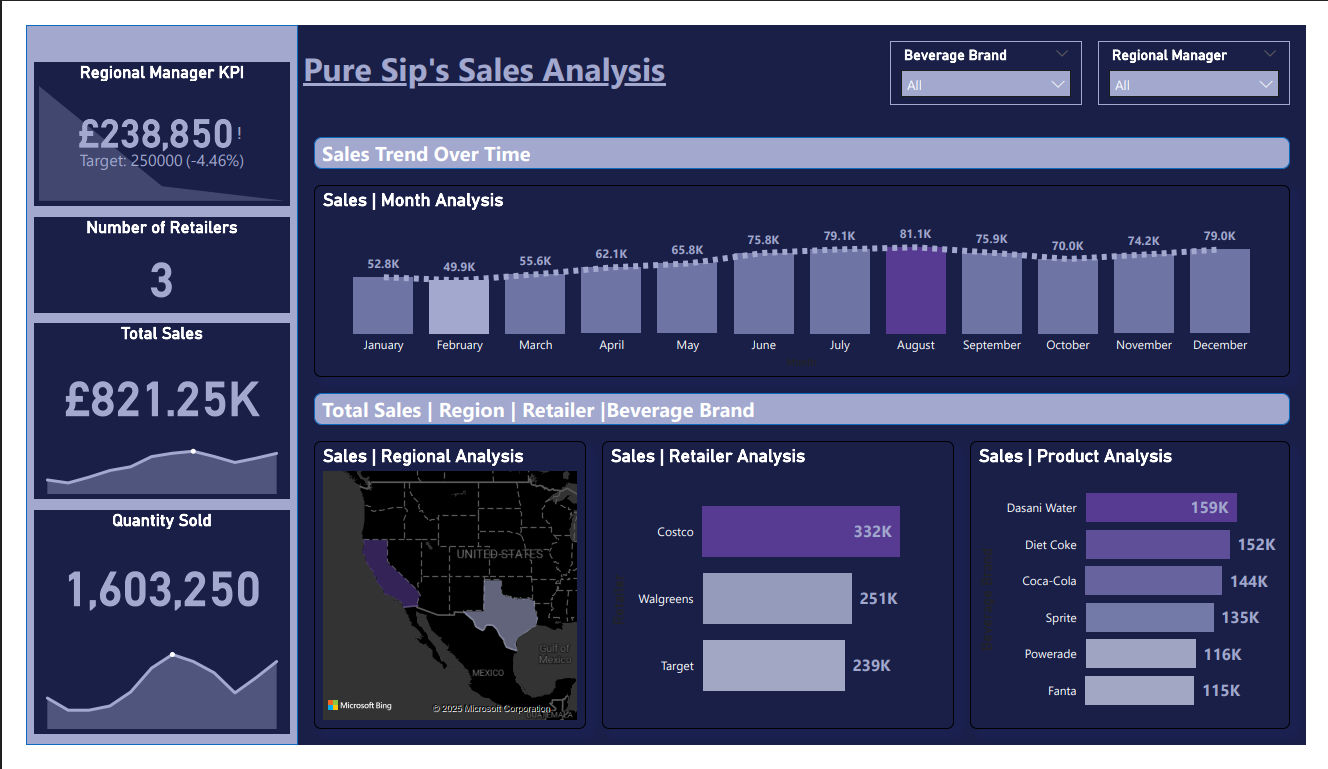

The dashboard page shown, as its layout file describes it:
{"tool":"powerbi","page":{"name":"Pure Sip Dashboard","canvas":[1280,720],"ordinal":0},"visuals":[{"type":"shape","box":[0,0,272,720],"z":0},{"type":"lineClusteredColumnComboChart","title":"Sales | Month Analysis","fields":{"Y":["Sum(data.Sales)"],"Category":["data.Order Date.Variation.Date Hierarchy.Month"],"Y2":["Sum(data.Sales)"]},"box":[288,160,976,192],"z":1000},{"type":"filledMap","title":"Sales | Regional Analysis","fields":{"Category":["data.State"]},"box":[288,416,272,288],"z":2000},{"type":"clusteredBarChart","title":"Sales | Retailer  Analysis","fields":{"Y":["Sum(data.Sales)"],"Category":["data.Retailer"]},"box":[576,416,352,288],"z":3000},{"type":"clusteredBarChart","title":"Sales | Product Analysis","fields":{"Y":["Sum(data.Sales)"],"Category":["data.Beverage Brand"]},"box":[944,416,320,288],"z":4000},{"type":"card","title":"Number of Retailers","fields":{"Values":["Calculated measures.Number of Retailers"]},"box":[8,191.7,256,96],"z":5000},{"type":"kpi","title":"Regional Manager KPI","fields":{"Indicator":["Calculated measures.Total Sales"],"Goal":["Calculated measures.Target"],"TrendLine":["data.Regional Manager"]},"box":[8,37,256,144],"z":6000},{"type":"card","title":"Quantity Sold","fields":{"Values":["Calculated measures.Total Quantity Sold"]},"box":[8,485,256,128],"z":6000,"group":"g2"},{"type":"slicer","fields":{"Values":["data.Regional Manager"]},"box":[1072,16,192,64],"z":7000},{"type":"card","title":"Total Sales","fields":{"Values":["Calculated measures.Total Sales"]},"box":[8,298.3,256,121.8],"z":7000,"group":"g4"},{"type":"shape","box":[288,368,976,32],"z":8000},{"type":"group","id":"g1","title":"Group 1","box":[8,298.3,256,176],"z":9000},{"type":"group","id":"g2","title":"Group 4","box":[8,485,256,224],"z":10000},{"type":"areaChart","title":"Total Sales","fields":{"Y":["Calculated measures.Total Quantity Sold"],"Category":["data.Order Date.Variation.Date Hierarchy.Month"]},"box":[8,613,256,96],"z":10000,"group":"g2"},{"type":"slicer","fields":{"Values":["data.Beverage Brand"]},"box":[864,16,192,64],"z":11000},{"type":"areaChart","title":"Total Sales","fields":{"Y":["Calculated measures.Total Sales"],"Category":["data.Order Date.Variation.Date Hierarchy.Month"]},"box":[8,393.1,256,81.2],"z":11000,"group":"g4"},{"type":"group","id":"g3","title":"Group 2","box":[8,298.3,256,176],"z":11001,"group":"g1"},{"type":"group","id":"g4","title":"Group 3","box":[8,298.3,256,176],"z":11001,"group":"g3"},{"type":"shape","box":[288,112,976,32],"z":12000},{"type":"textbox","box":[272,16,576,64],"z":13000}]}

Visuals, with their boxes in screenshot pixels (x1, y1, x2, y2), scaled from the page's 1280x720 canvas onto the 1328x769 screenshot:
shape: (x1=0, y1=0, x2=282, y2=768)
"Sales | Month Analysis" lineClusteredColumnComboChart: (x1=299, y1=171, x2=1311, y2=376)
"Sales | Regional Analysis" filledMap: (x1=299, y1=444, x2=581, y2=752)
"Sales | Retailer  Analysis" clusteredBarChart: (x1=598, y1=444, x2=963, y2=752)
"Sales | Product Analysis" clusteredBarChart: (x1=979, y1=444, x2=1311, y2=752)
"Number of Retailers" card: (x1=8, y1=205, x2=274, y2=307)
"Regional Manager KPI" kpi: (x1=8, y1=40, x2=274, y2=193)
"Quantity Sold" card: (x1=8, y1=518, x2=274, y2=655)
slicer - data.Regional Manager: (x1=1112, y1=17, x2=1311, y2=85)
"Total Sales" card: (x1=8, y1=319, x2=274, y2=449)
shape: (x1=299, y1=393, x2=1311, y2=427)
"Group 1" group: (x1=8, y1=319, x2=274, y2=507)
"Group 4" group: (x1=8, y1=518, x2=274, y2=757)
"Total Sales" areaChart: (x1=8, y1=655, x2=274, y2=757)
slicer - data.Beverage Brand: (x1=896, y1=17, x2=1096, y2=85)
"Total Sales" areaChart: (x1=8, y1=420, x2=274, y2=507)
"Group 2" group: (x1=8, y1=319, x2=274, y2=507)
"Group 3" group: (x1=8, y1=319, x2=274, y2=507)
shape: (x1=299, y1=120, x2=1311, y2=154)
textbox: (x1=282, y1=17, x2=880, y2=85)
